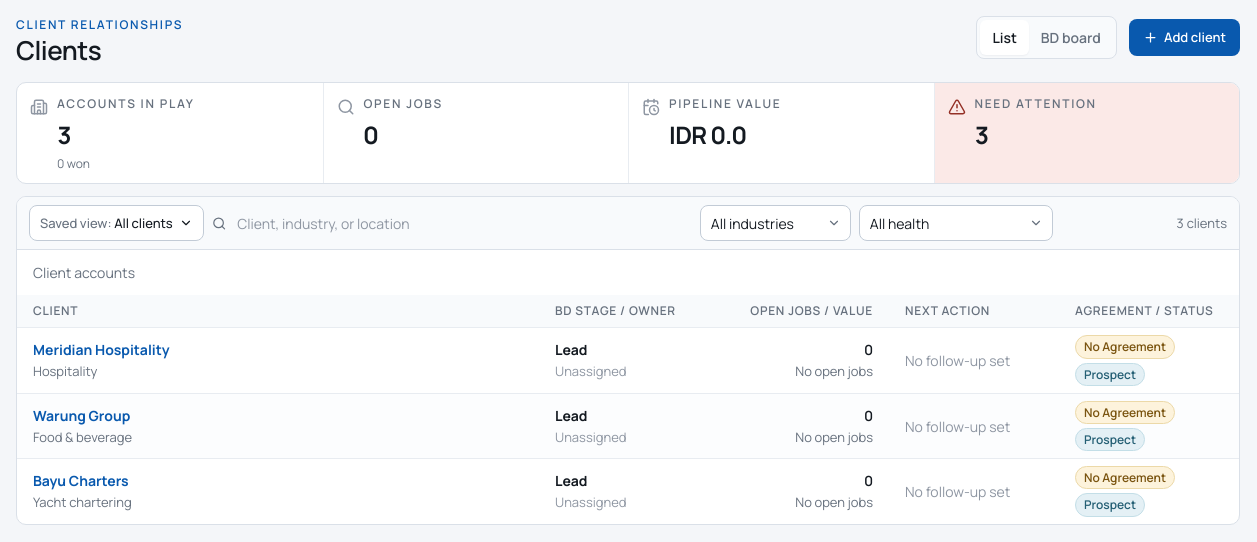
Scenario: ClientsPage industry › finds a keyed row by the label a consultant reads
Type "food & bev" into the field named "Search clients" at [462, 224], box [232,206,692,242]
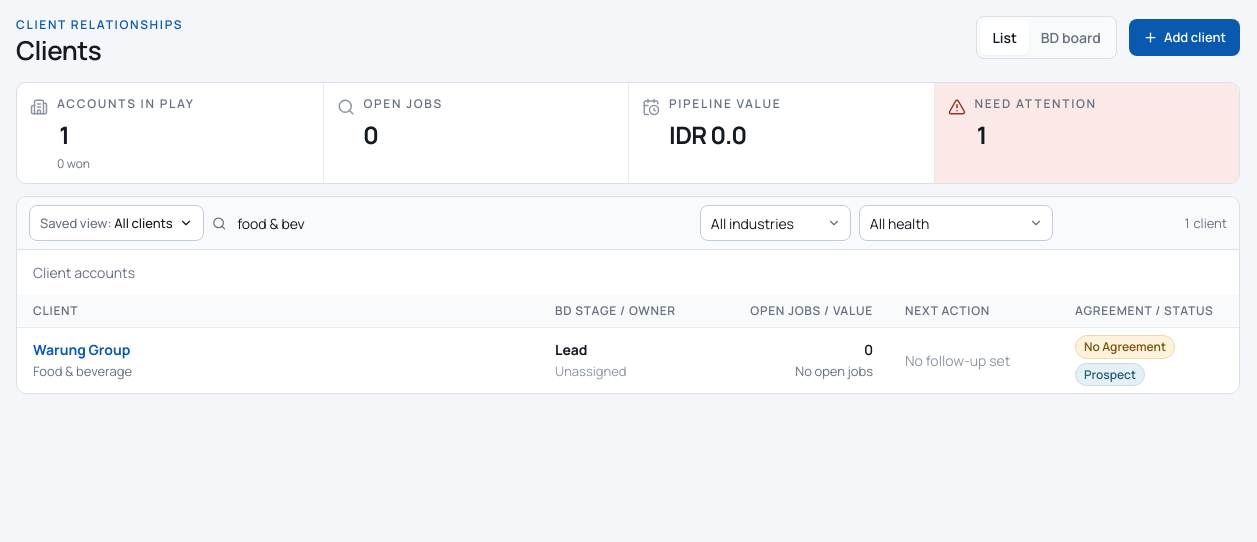
Expected: the text "Warung Group" is shown, [33,340,130,359]
Now the link "Meridian Hospitality" is gone
